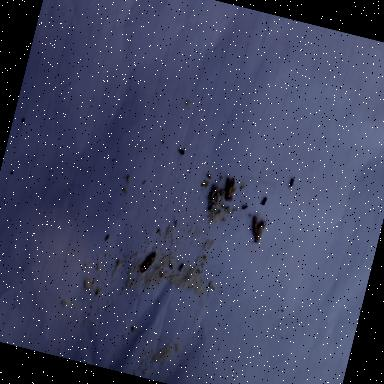pbw: (138, 248, 157, 276), (207, 184, 226, 212), (252, 214, 268, 246), (221, 176, 236, 203), (248, 210, 262, 236)
